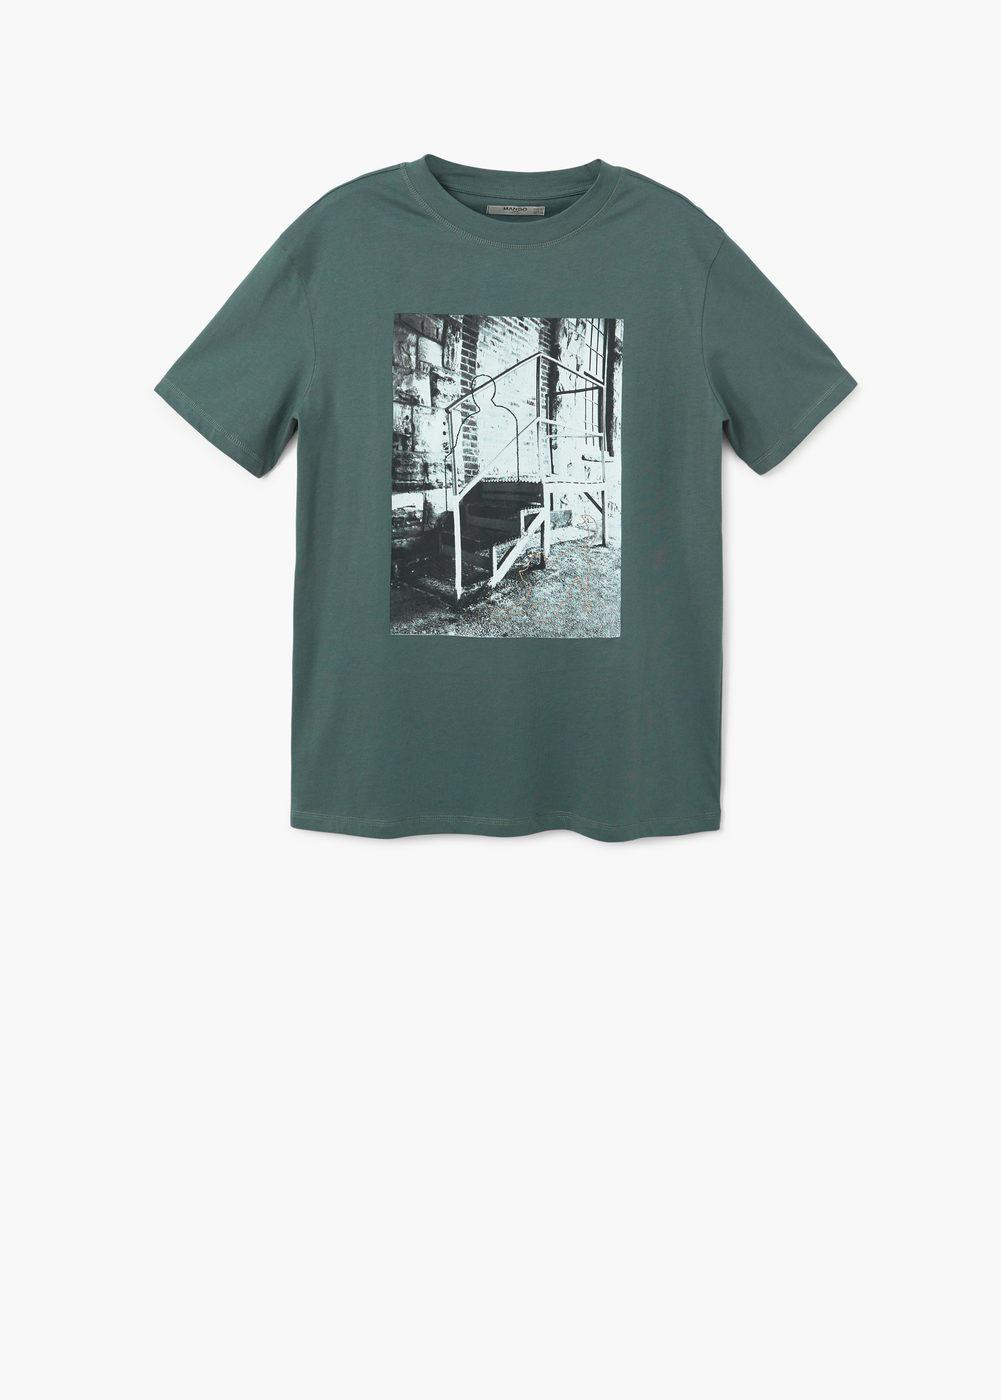teeshirt: (116, 152, 912, 914)
